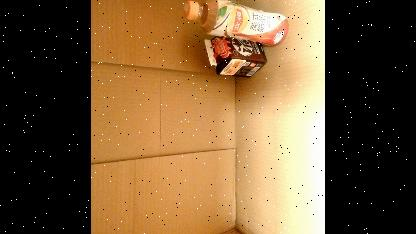Plastic Bottle: (181, 0, 291, 45)
